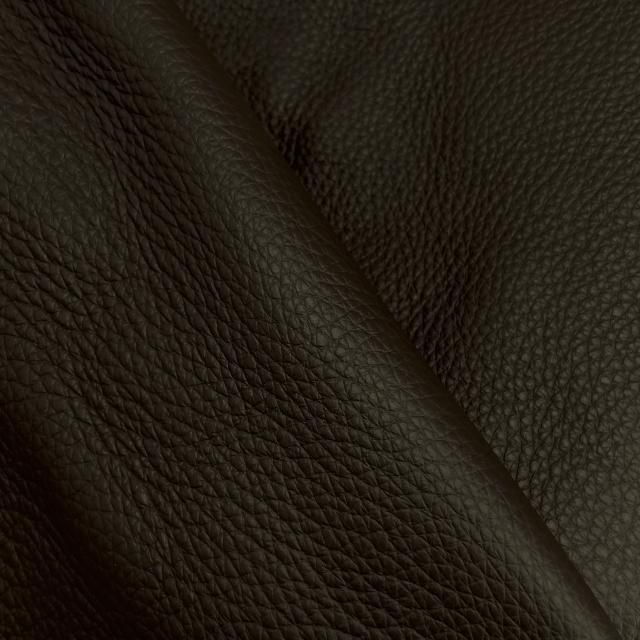Crease: (319, 296, 523, 474)
